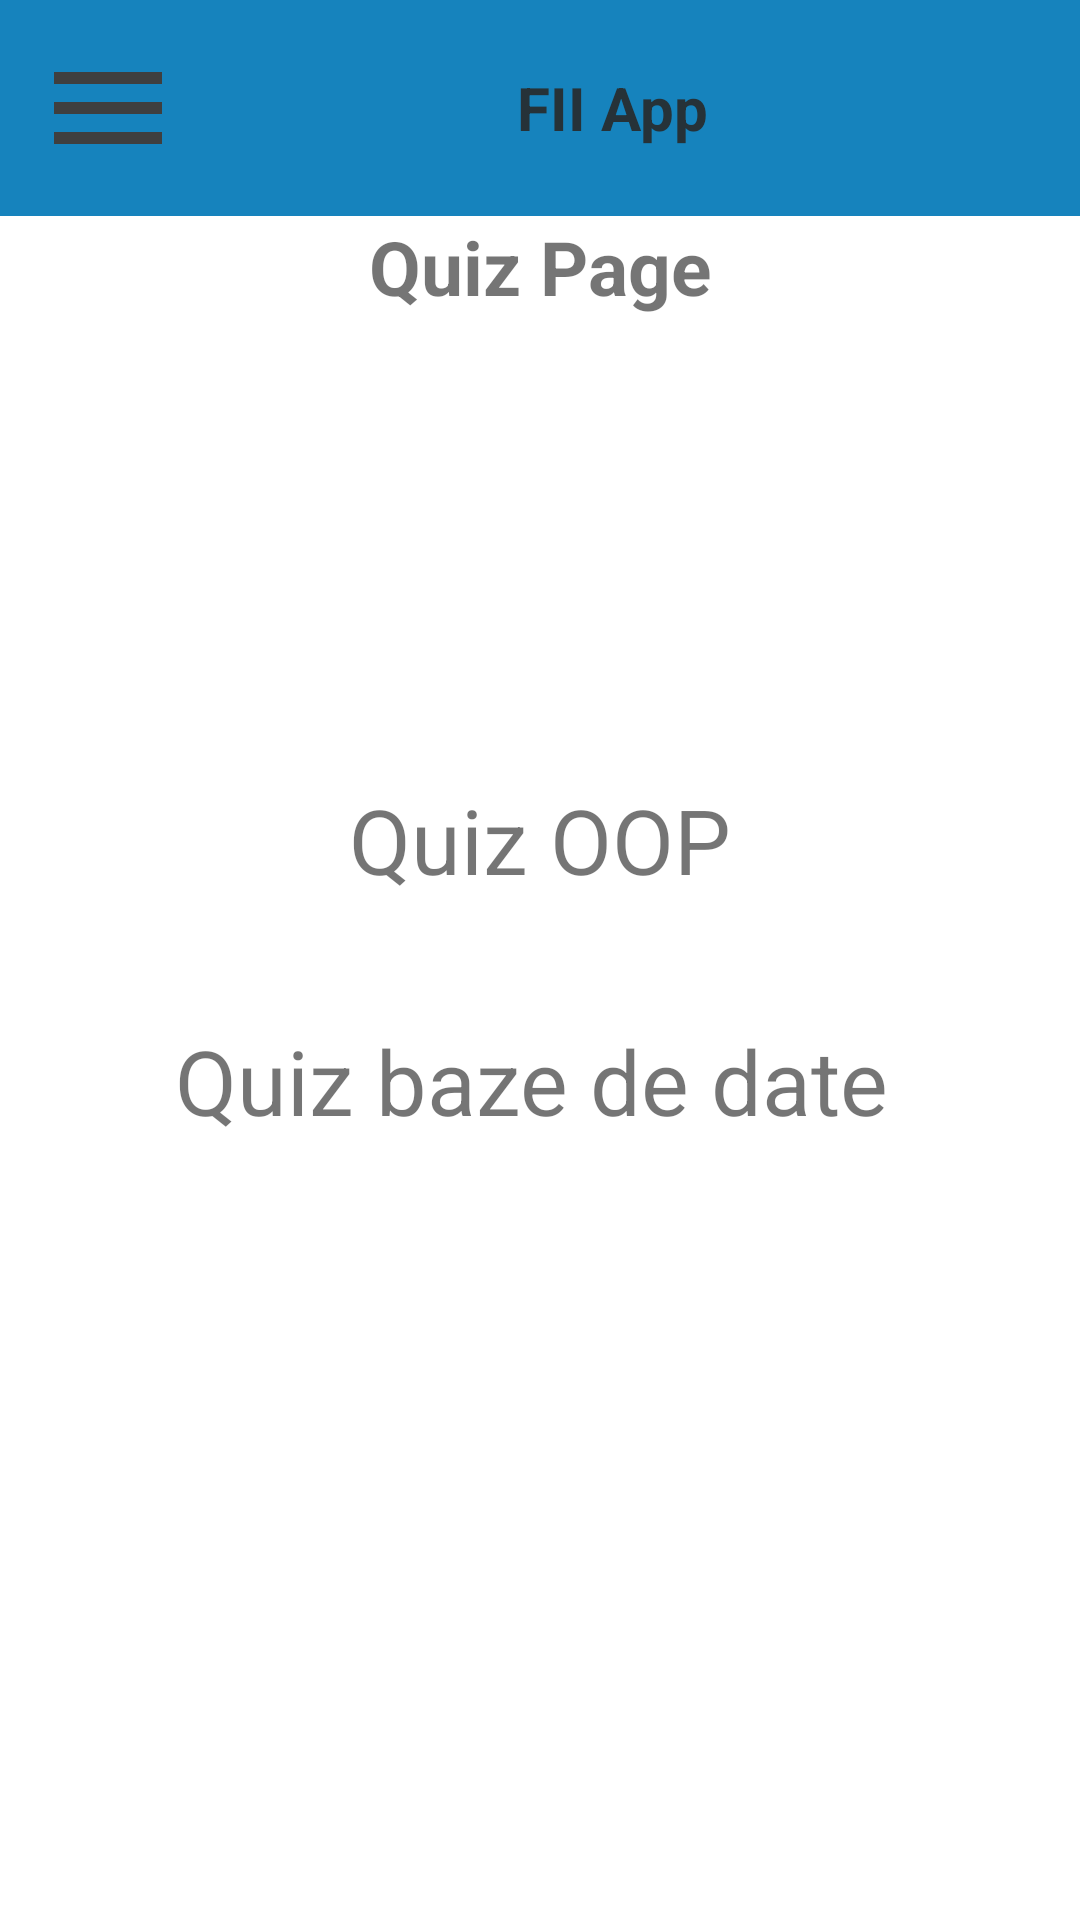

Named icons in this screenshot (1080px×1920px) and their bounding boxes, (x1, y1, x2, y2):
Burgermenu: (54, 72, 162, 144)
